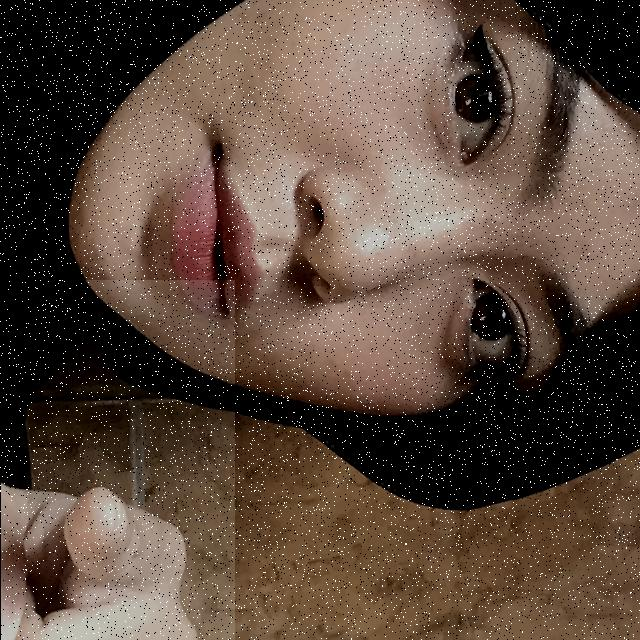kamu: (0, 280, 234, 640)
